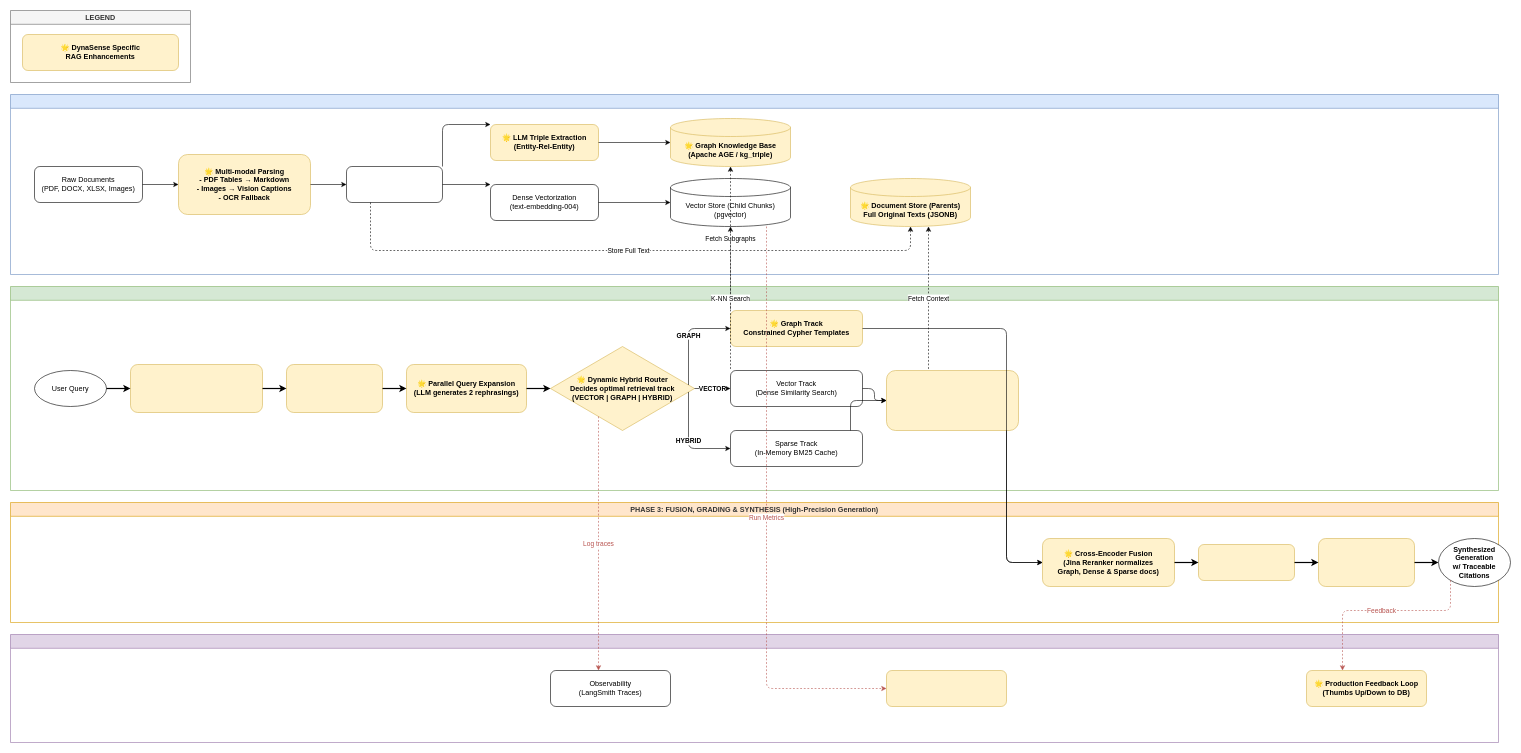
This 1521x753 diagram has some shape labels left out. Here are the shapes that lost their labels. From the top down, the box of each, then its label:
(346, 166, 442, 202): Semantic Chunking (Jina Segmenter)
(10, 94, 1498, 274): PHASE 1: ADVANCED KNOWLEDGE ACQUISITION (Dual-Track Ingestion)
(130, 364, 262, 412): 🌟 LLM Query Understanding (Intent Detection & Contextualization)
(286, 364, 382, 412): 🌟 Session Memory w/ Topic Anchors
(10, 286, 1498, 490): PHASE 2: INTELLIGENT ROUTING & MULTI-STRATEGY RETRIEVAL
(886, 370, 1018, 430): 🌟 Small-to-Big Expansion (Map matched Child Chunks to Full Parent Documents)
(1198, 544, 1294, 580): 🌟 MMR Diversity Filter (Jaccard dedup)
(1318, 538, 1414, 586): 🌟 Hallucination Grader (Strict Factual vs Relaxed Analysis)
(10, 634, 1498, 742): PHASE 4: CONTINUOUS EVALUATION & OBSERVABILITY
(886, 670, 1006, 706): 🌟 Automated Metrics Eval (RAGAS: Recall@K, NDCG@K)
